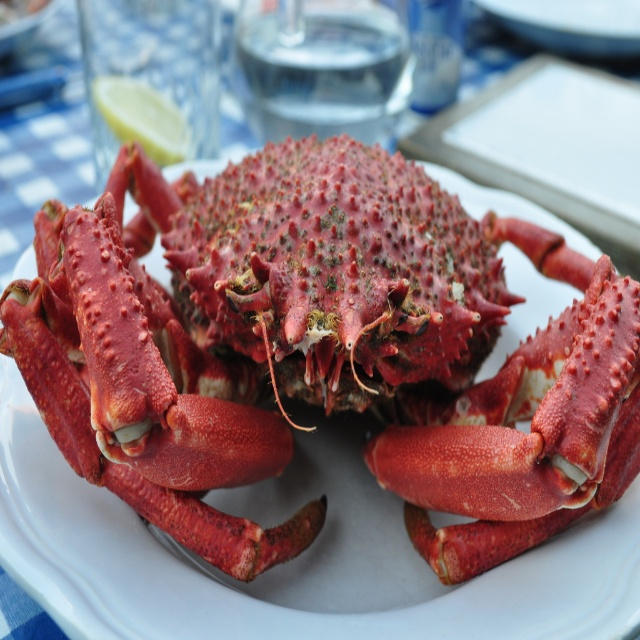Crab: (0, 131, 640, 593)
